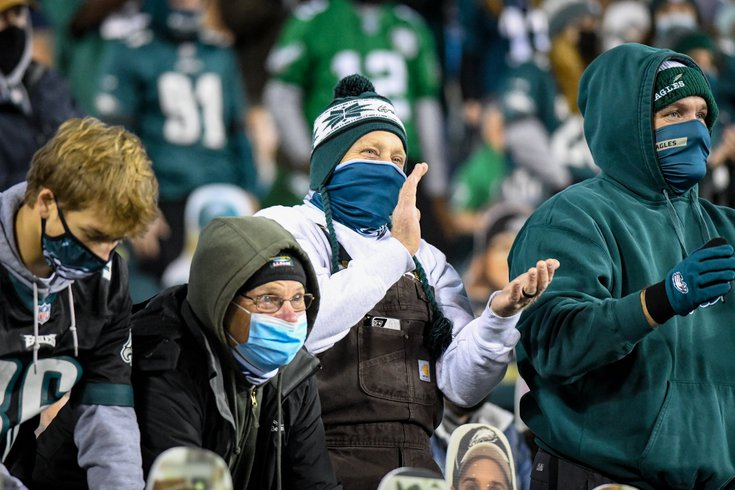with_mask: (37, 181, 122, 273), (239, 282, 304, 364), (653, 87, 710, 161), (349, 132, 402, 207)
